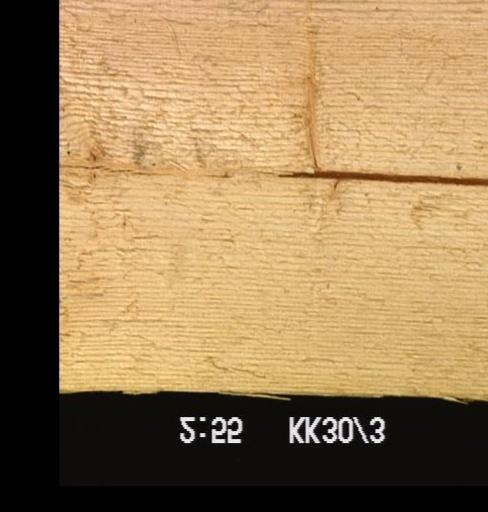split: (60, 160, 301, 187)
